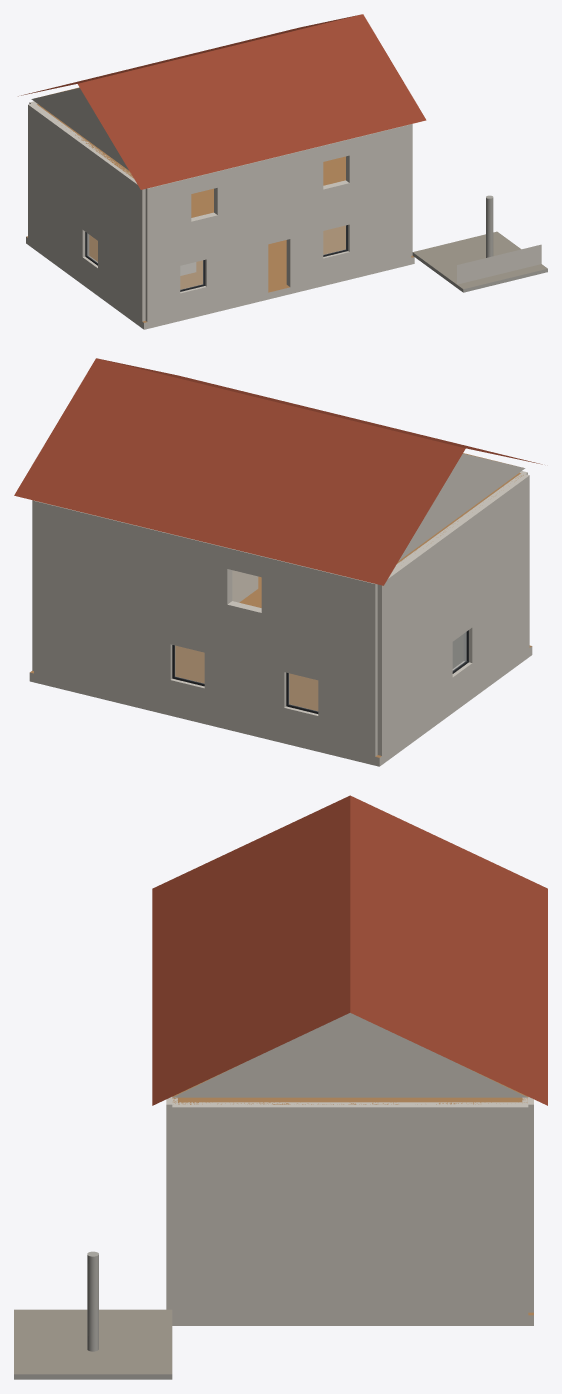
3 views of the same model, one above another, from view 1: azimuth 30°, elevation 25°; view 2: azimuth 150°, elevation 25°; view 3: azimuth 270°, elevation 25° (orthographic). The views are drawn at different scales.
Visible parts, largest first — view 1: building_0, building_3, building_1, building_7, building_5, building_6; view 2: building_0, building_3, building_1, building_5, building_2, building_4; view 3: building_0, building_3, building_7, building_1, building_6.
Boxes of the visible parts, <box> form: building_0: <box>26,88,541,329</box>; building_3: <box>18,14,426,189</box>; building_1: <box>26,87,413,322</box>; building_7: <box>413,231,547,289</box>; building_5: <box>87,225,345,289</box>; building_6: <box>412,195,547,292</box>; building_0: <box>29,453,532,766</box>; building_3: <box>14,358,542,585</box>; building_1: <box>30,453,531,757</box>; building_5: <box>175,632,466,711</box>; building_2: <box>232,570,463,668</box>; building_4: <box>172,630,468,713</box>; building_0: <box>166,1013,533,1325</box>; building_3: <box>152,795,547,1105</box>; building_7: <box>14,1309,172,1374</box>; building_1: <box>172,1061,533,1315</box>; building_6: <box>14,1251,172,1379</box>.
Size of the model in its own units: 16.5 by 8.9 by 13.5.
